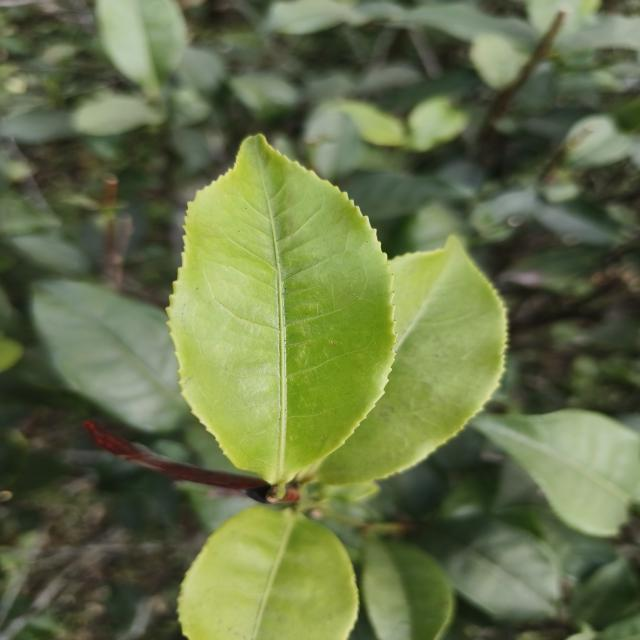Leaf: (168, 135, 395, 484), (318, 238, 506, 484), (32, 279, 190, 433), (178, 506, 358, 640), (472, 409, 640, 536), (416, 515, 560, 620), (360, 538, 454, 640), (96, 0, 187, 97), (400, 2, 538, 50), (345, 171, 463, 222), (570, 556, 640, 629), (305, 109, 363, 181), (533, 201, 620, 246), (72, 94, 164, 136), (8, 230, 88, 275), (565, 115, 631, 168), (267, 0, 365, 35), (408, 96, 468, 151), (333, 101, 405, 146), (470, 33, 526, 88), (558, 14, 640, 51)
